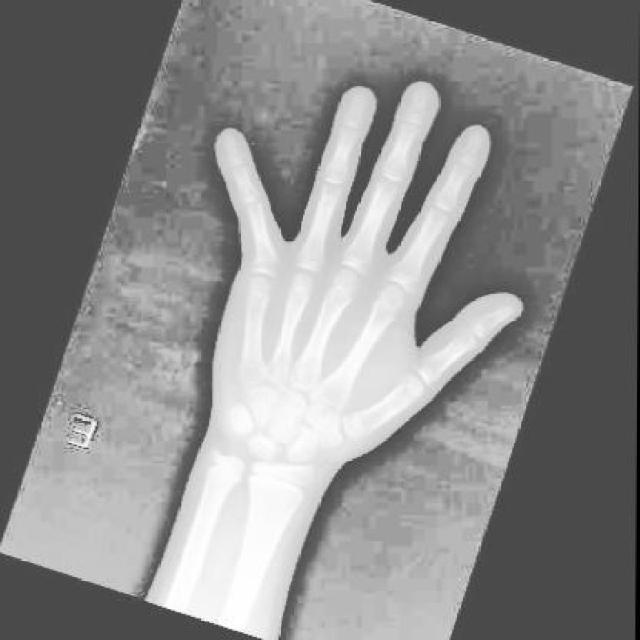Fracture: (251, 250, 287, 279)
